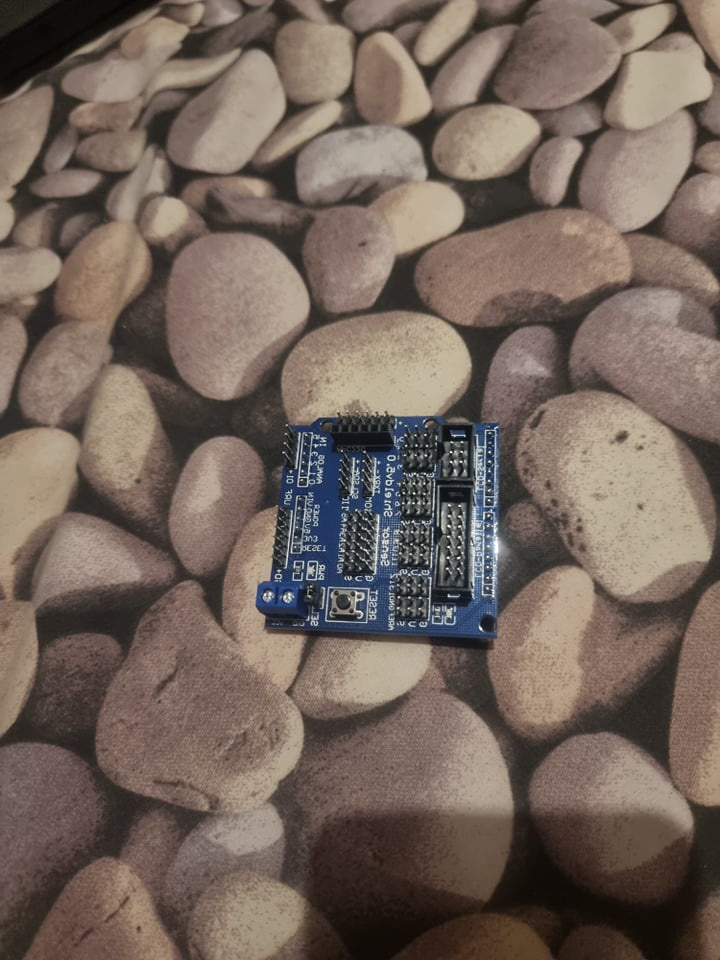5V EXPANSION: (253, 415, 500, 640)
